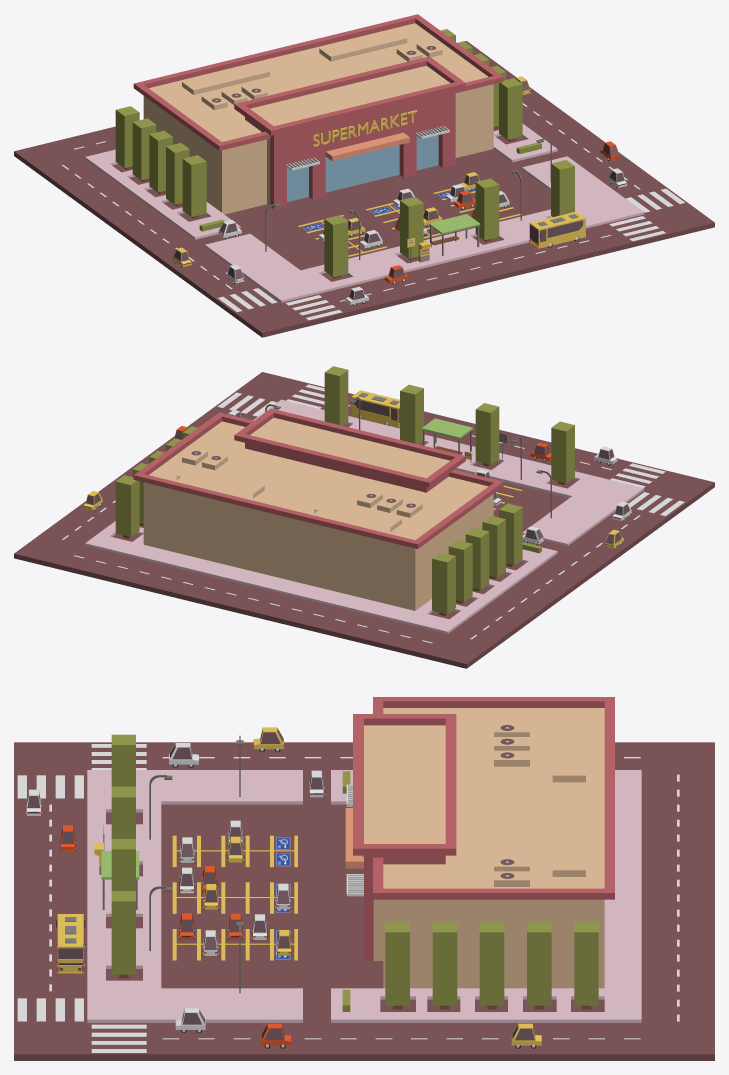
Rendered from lowpoly_supermarket.glb.
The picture shows the model from 3 angles, top to bottom: view 1: azimuth 30°, elevation 25°; view 2: azimuth 150°, elevation 25°; view 3: azimuth 270°, elevation 25°; orthographic projection. The views are drawn at different scales.
Parts seen in each view (by area): view 1: Plane_0, Building_36, Footpath_35, Trees.001_37, Trees.005_41, Aircon2_39, Bus_13, Road_Markings.004_44, Road_Markings.001_45, Aircon1_38, Text.002_11, Parking_Line_42 (+2 smaller); view 2: Building_36, Plane_0, Footpath_35, Trees.001_37, Trees.005_41, Aircon2_39, Bus_13, Road_Markings.004_44, Aircon1_38, Road_Markings.001_45, Bus-Stop_Top_3, Aircon3_40; view 3: Plane_0, Building_36, Footpath_35, Trees.001_37, Trees.005_41, Aircon2_39, Parking_Line_42, Road_Markings.001_45, Bus_13, Aircon1_38, Road_Markings.004_44, Aircon3_40 (+8 smaller).
Part boxes in pixels (x1,y1,x2,y2): Plane_0: (14,41,714,337); Building_36: (133,14,503,214); Footpath_35: (85,124,643,302); Trees.001_37: (115,29,522,218); Trees.005_41: (324,160,574,278); Aircon2_39: (182,29,407,94); Bus_13: (529,211,585,248); Road_Markings.004_44: (218,288,342,320); Road_Markings.001_45: (609,188,685,241); Aircon1_38: (201,83,267,110); Text.002_11: (313,110,417,146); Parking_Line_42: (298,188,522,256); Building_36: (133,408,503,610); Plane_0: (14,372,714,668); Footpath_35: (85,397,643,633); Trees.001_37: (115,426,522,615); Trees.005_41: (324,366,574,485); Aircon2_39: (176,467,401,532); Bus_13: (351,390,399,427); Road_Markings.004_44: (610,463,684,515); Aircon1_38: (357,491,422,517); Road_Markings.001_45: (217,384,324,416); Bus-Stop_Top_3: (421,418,473,438); Aircon3_40: (182,448,227,470); Plane_0: (14,742,714,1060); Building_36: (345,697,614,988); Footpath_35: (87,735,641,1022); Trees.001_37: (385,921,598,1009); Trees.005_41: (111,734,135,978); Aircon2_39: (552,723,585,876); Parking_Line_42: (172,835,297,960); Road_Markings.001_45: (17,998,146,1052); Bus_13: (56,914,85,973); Aircon1_38: (494,723,529,766); Road_Markings.004_44: (17,744,146,798); Aircon3_40: (494,857,529,886).
Bounding box in the file's own units: 20 × 3.7 × 19.
Materials: 24 (2 with a texture image).
